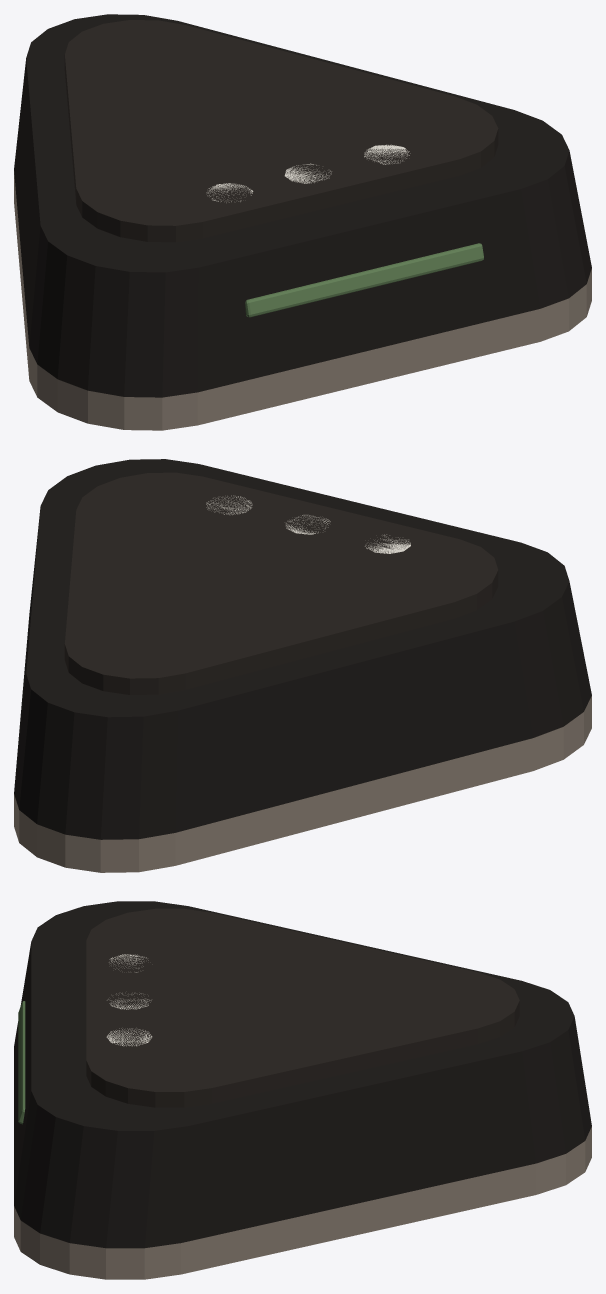
Rendered from hh_cat_office_speaker.glb.
The picture shows the model from 3 angles, top to bottom: view 1: azimuth 30°, elevation 25°; view 2: azimuth 150°, elevation 25°; view 3: azimuth 270°, elevation 25°; orthographic projection. The views are drawn at different scales.
Parts seen in each view (by area): view 1: speaker_body, grille, side_band, led_bar, key.002; view 2: speaker_body, grille, side_band; view 3: speaker_body, grille, side_band, led_bar, key.002.
Boxes of the visible parts, box(x1,y1,x2,y2) form: speaker_body: box(14, 14, 591, 397); grille: box(64, 20, 498, 242); side_band: box(14, 171, 591, 430); led_bar: box(245, 243, 483, 317); key.002: box(364, 144, 410, 164); speaker_body: box(14, 459, 591, 839); grille: box(64, 472, 498, 694); side_band: box(14, 696, 591, 872); speaker_body: box(14, 901, 591, 1248); grille: box(86, 908, 519, 1107); side_band: box(14, 1126, 591, 1279); led_bar: box(18, 1001, 25, 1124); key.002: box(106, 1028, 152, 1046).
Bounding box in the file's own units: 0.2 × 0.06 × 0.2.
